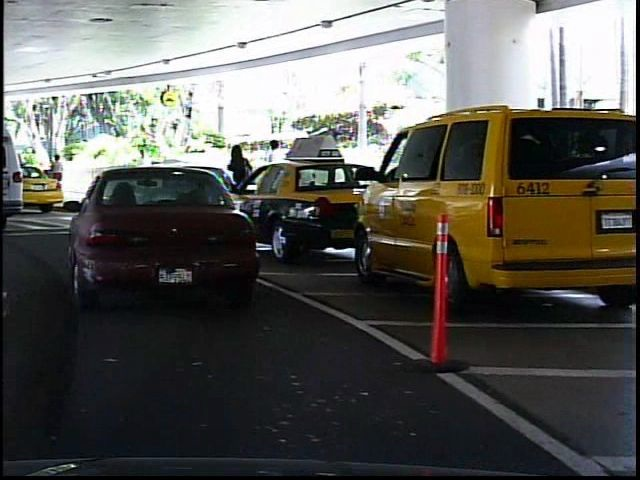person: (223, 138, 258, 215), (262, 136, 289, 212), (130, 143, 155, 204), (47, 150, 69, 198)
